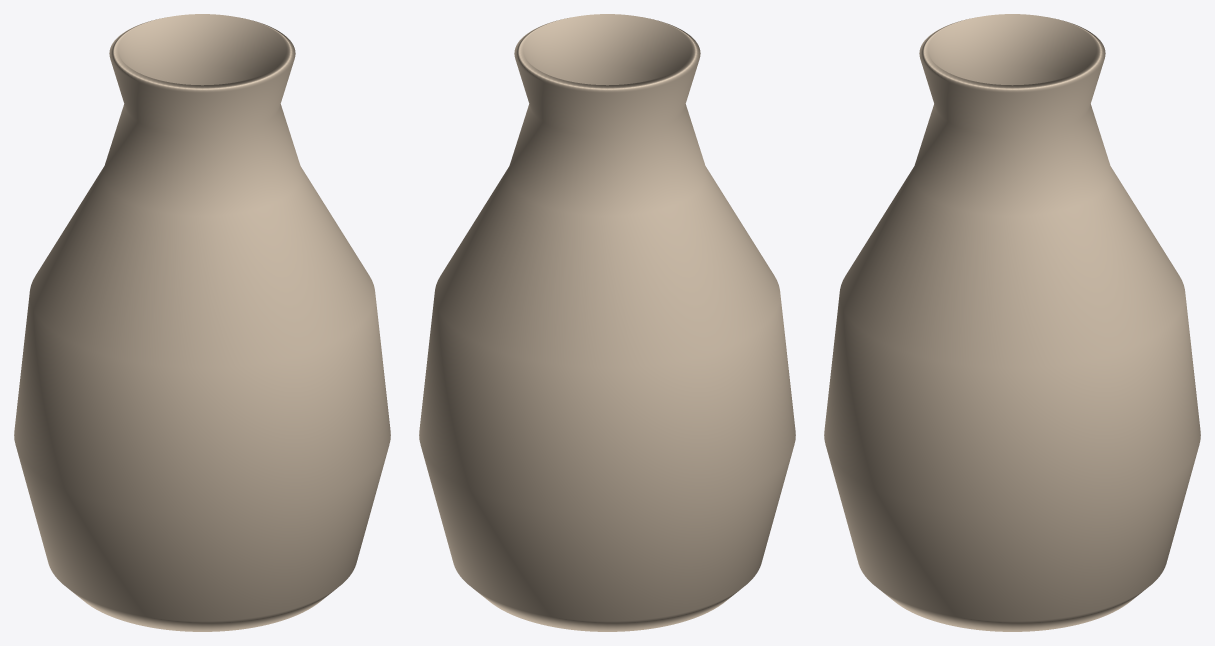
The model's file is home-vase.glb.
3 renders of one model, left to right at view 1: azimuth 30°, elevation 25°; view 2: azimuth 150°, elevation 25°; view 3: azimuth 270°, elevation 25°, orthographic.
Visible parts, largest first — view 1: body; view 2: body; view 3: body.
Boxes of the visible parts, <box> form: body: <box>14,14,390,631</box>; body: <box>419,14,795,631</box>; body: <box>824,14,1200,631</box>.
Bounding box in the file's own units: 0.17 × 0.262 × 0.17.
